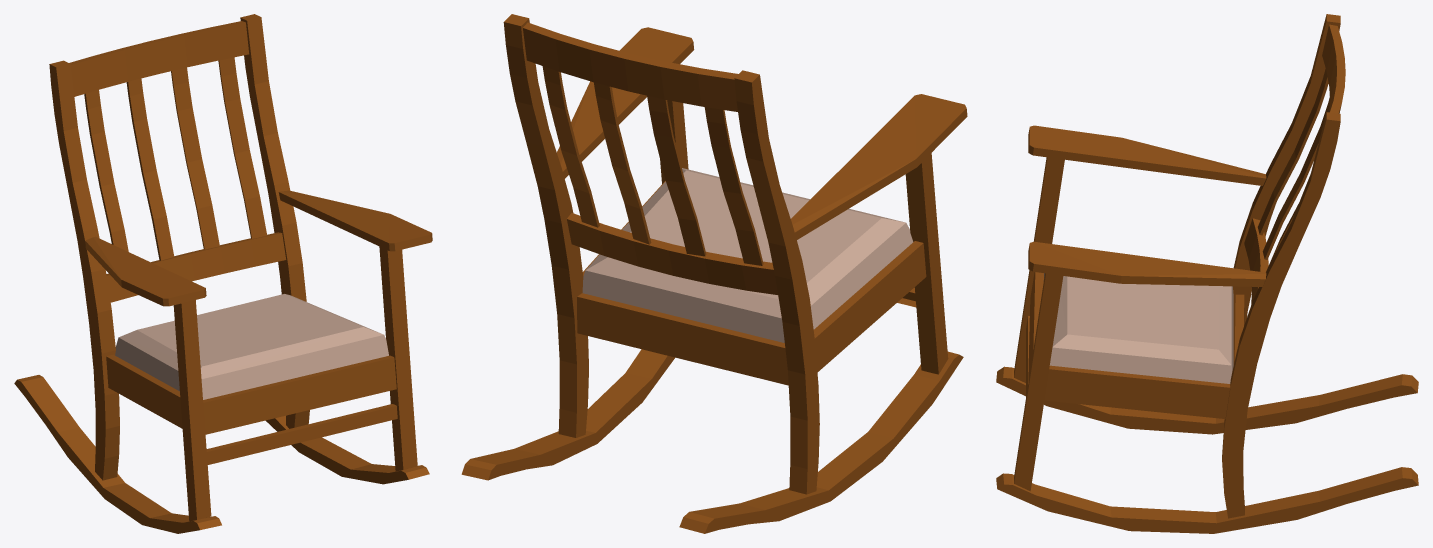
File: Rocking Chair.glb
The picture shows the model from 3 angles, left to right: view 1: azimuth 30°, elevation 25°; view 2: azimuth 150°, elevation 25°; view 3: azimuth 270°, elevation 25°; orthographic projection. The views are drawn at different scales.
Parts seen in each view (by area): view 1: Rocking_chair; view 2: Rocking_chair; view 3: Rocking_chair.
Part boxes in pixels (<box>): Rocking_chair: <box>14,14,432,533</box>; Rocking_chair: <box>461,14,967,533</box>; Rocking_chair: <box>996,14,1418,533</box>.
Size of the model in its own units: 1.24 by 1.72 by 1.6.
Materials: 2 (1 with a texture image).
